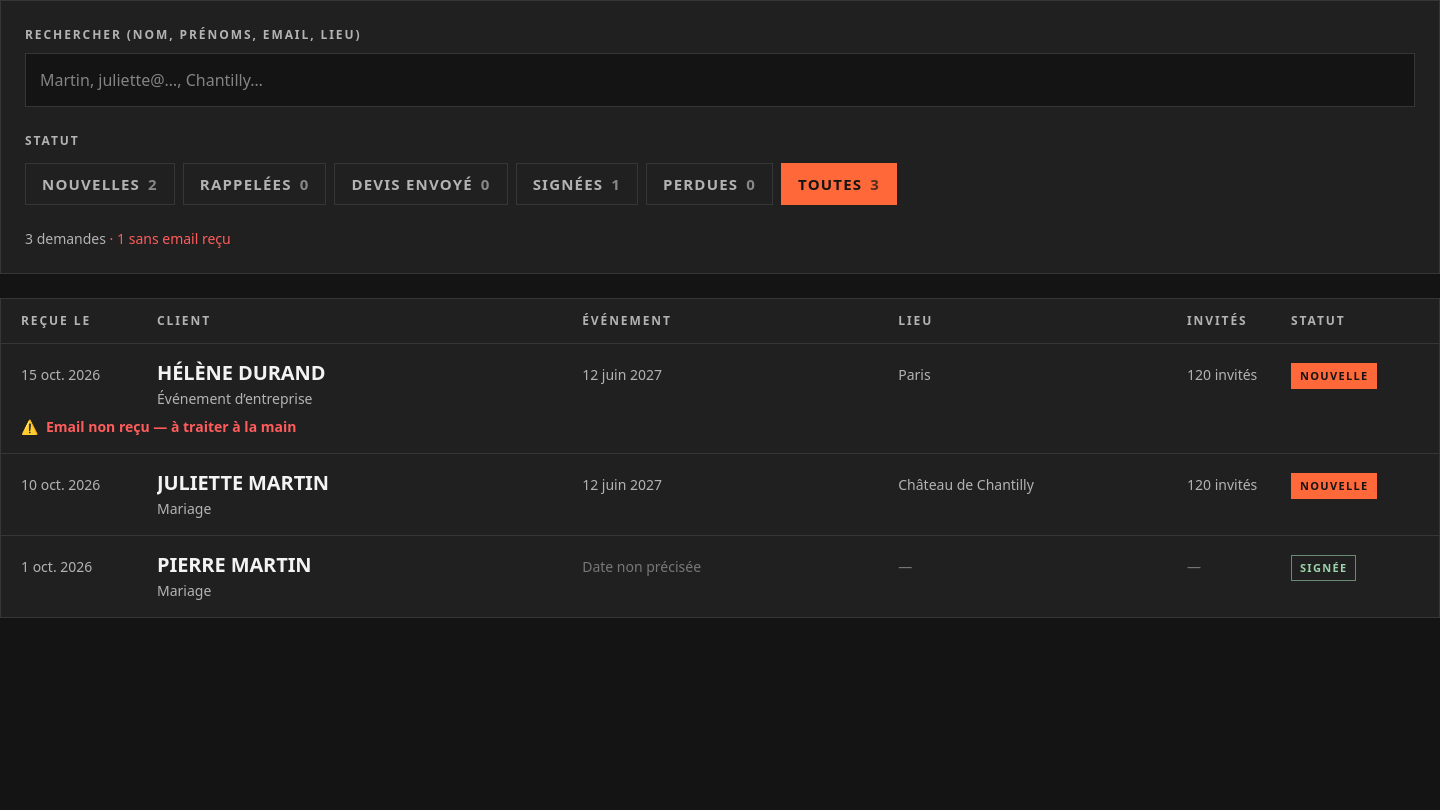
Test case: GestionDemandes — fiche › numéro étranger : pas de WhatsApp ; langue anglaise : objet du mail en anglais
The image size is (1440, 810).
Click the button with aria-label "Ouvrir la demande de Pierre Martin".
click(234, 565)  # box [157,552,312,577]
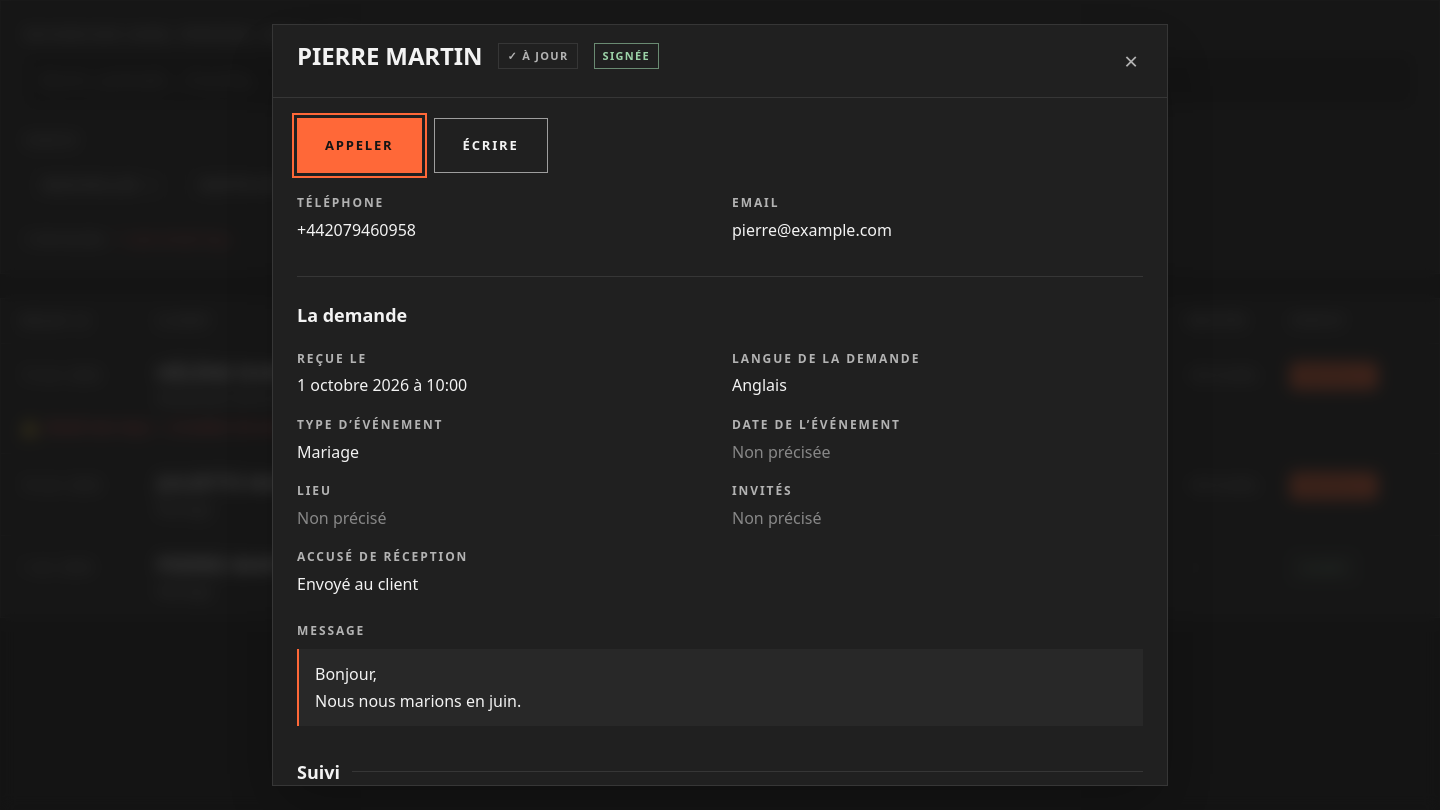
Check: the dialog "Pierre Martin" shows "Anglais", box [732,374,787,396]
Check: the dialog "Pierre Martin" shows "Non précisée", box [732,441,831,463]
